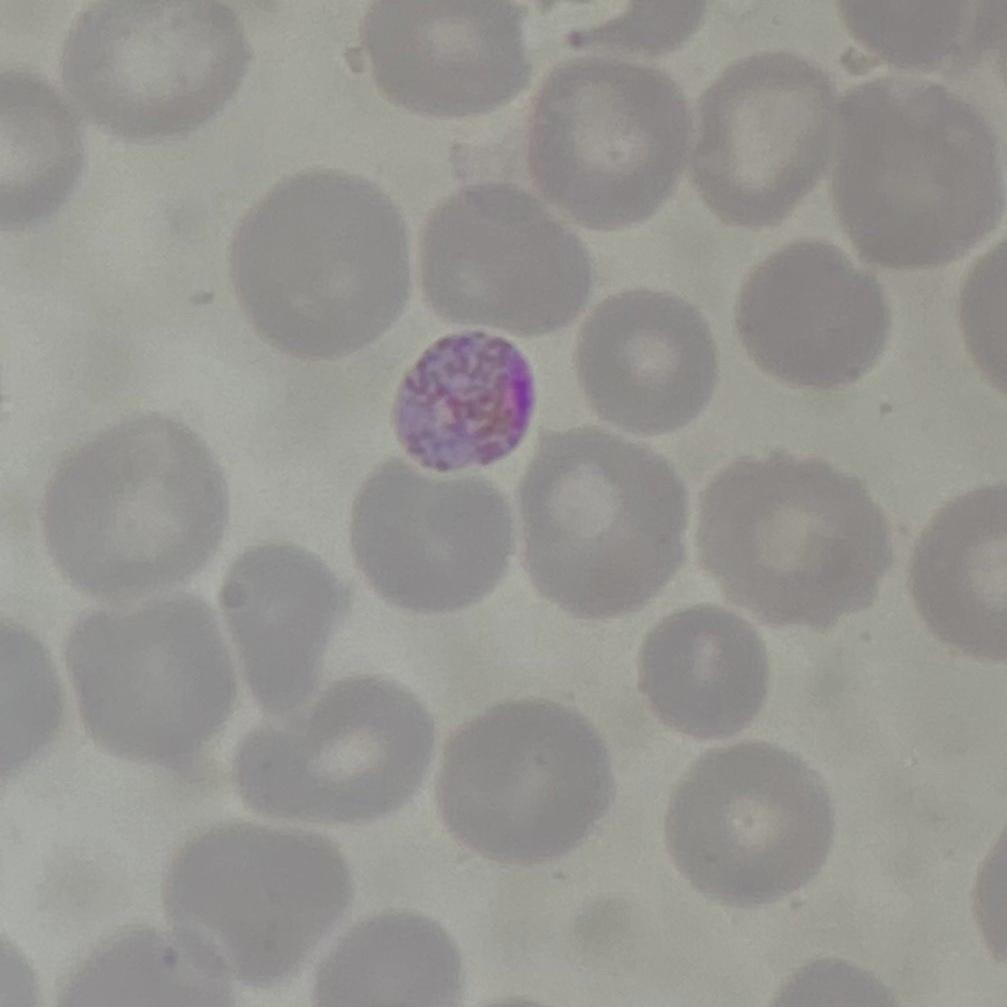Infected: (390, 323, 536, 481)
Uninfected: (702, 448, 894, 633), (45, 413, 226, 603), (830, 78, 1007, 266), (233, 171, 411, 354), (167, 816, 349, 983), (437, 698, 619, 863), (237, 671, 429, 823), (522, 431, 684, 611), (662, 746, 838, 910), (72, 591, 234, 765), (423, 176, 596, 333), (530, 63, 691, 224), (60, 1, 246, 136), (350, 461, 511, 616), (696, 51, 839, 224), (578, 281, 721, 436), (738, 243, 888, 385), (225, 538, 338, 721), (360, 0, 531, 116), (908, 491, 1007, 665), (642, 606, 768, 733)
